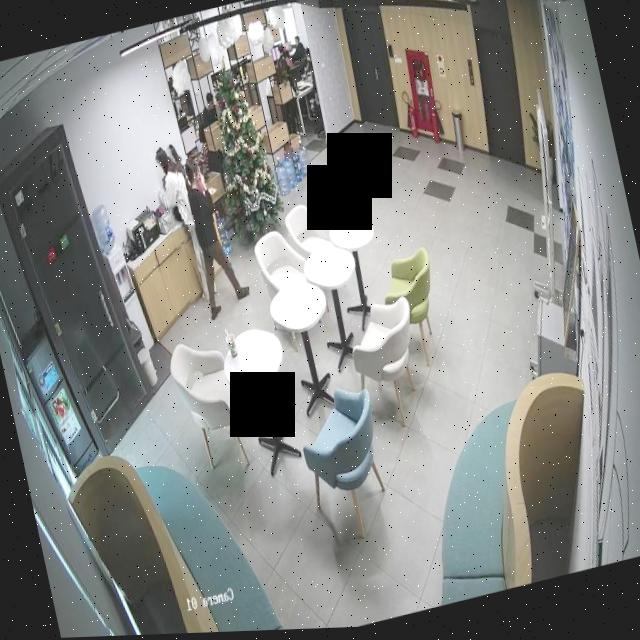person: (176, 152, 253, 325), (152, 138, 219, 309)
